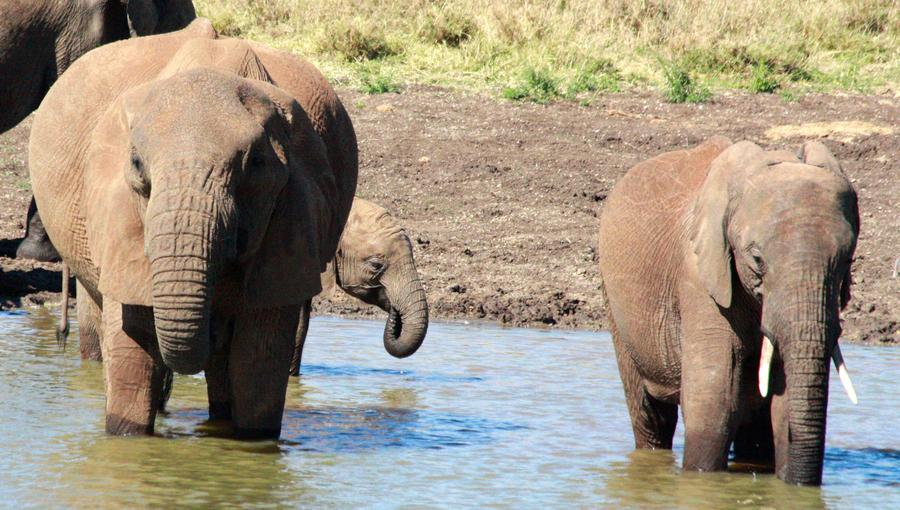elephant: (89, 84, 338, 357), (701, 145, 885, 384)
